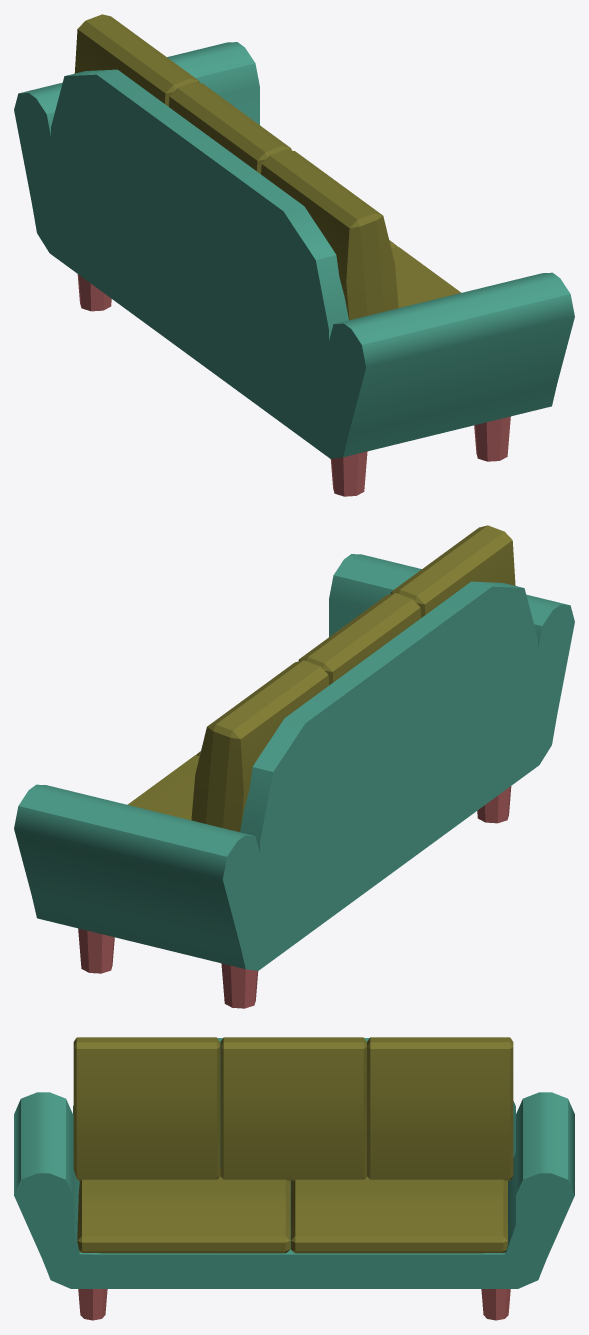
File: Office2_sofa.fbx
The picture shows the model from 3 angles, top to bottom: view 1: azimuth 30°, elevation 25°; view 2: azimuth 150°, elevation 25°; view 3: azimuth 270°, elevation 25°; orthographic projection. The views are drawn at different scales.
Parts seen in each view (by area): view 1: Office2_sofa; view 2: Office2_sofa; view 3: Office2_sofa.
Boxes of the visible parts, left/top/right/bottom form: Office2_sofa: left=14, top=14, right=574, bottom=496; Office2_sofa: left=14, top=525, right=574, bottom=1008; Office2_sofa: left=14, top=1037, right=574, bottom=1320.
Bounding box in the file's own units: 123 × 158 × 360.
